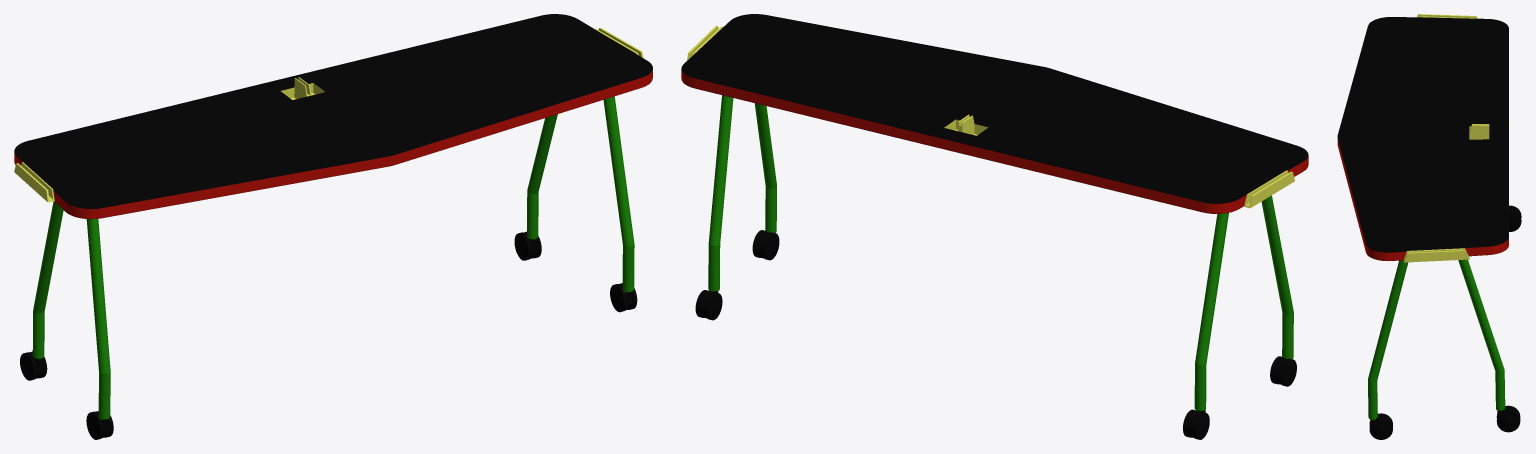
The model's file is cool__table.fbx.
The picture shows the model from 3 angles, left to right: view 1: azimuth 30°, elevation 25°; view 2: azimuth 150°, elevation 25°; view 3: azimuth 270°, elevation 25°; orthographic projection. The views are drawn at different scales.
Parts seen in each view (by area): view 1: Body3.001, Body7, Body11, Body3; view 2: Body3.001, Body7, Body11, Body3, Body3.004, Body3.002, Body3.003; view 3: Body3.001, Body7, Body11, Body3, Body3.002, Body3.004.
Boxes of the visible parts, x1,y1,x2,y2 form: Body3.001: (14, 14, 652, 219); Body7: (32, 96, 634, 419); Body11: (14, 27, 643, 202); Body3: (514, 231, 541, 260); Body3.001: (681, 14, 1308, 213); Body7: (708, 95, 1293, 411); Body11: (687, 25, 1294, 208); Body3: (695, 290, 722, 320); Body3.004: (1183, 409, 1209, 439); Body3.002: (752, 230, 779, 260); Body3.003: (1270, 356, 1296, 386); Body3.001: (1337, 17, 1508, 261); Body7: (1368, 259, 1505, 420); Body11: (1403, 14, 1477, 262); Body3: (1496, 405, 1520, 432); Body3.002: (1369, 413, 1392, 439); Body3.004: (1509, 205, 1521, 231).
Bounding box in the file's own units: 184 × 74.17 × 59.9.
